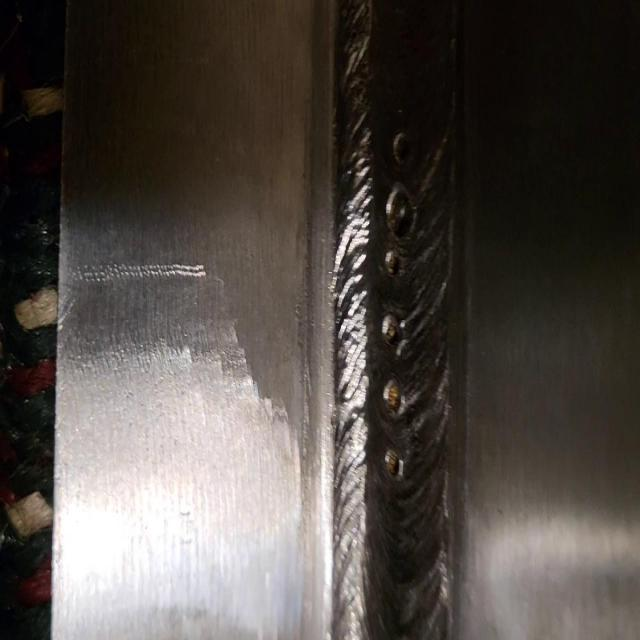Welding Line: (336, 7, 449, 640)
Workpiece: (65, 7, 637, 640)
porosity: (381, 132, 415, 478)
